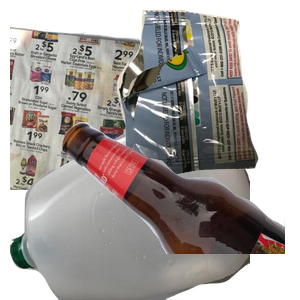glass: (60, 120, 300, 300)
paper: (10, 22, 225, 202)
plastic: (10, 120, 250, 300)
trash: (114, 10, 300, 180)
